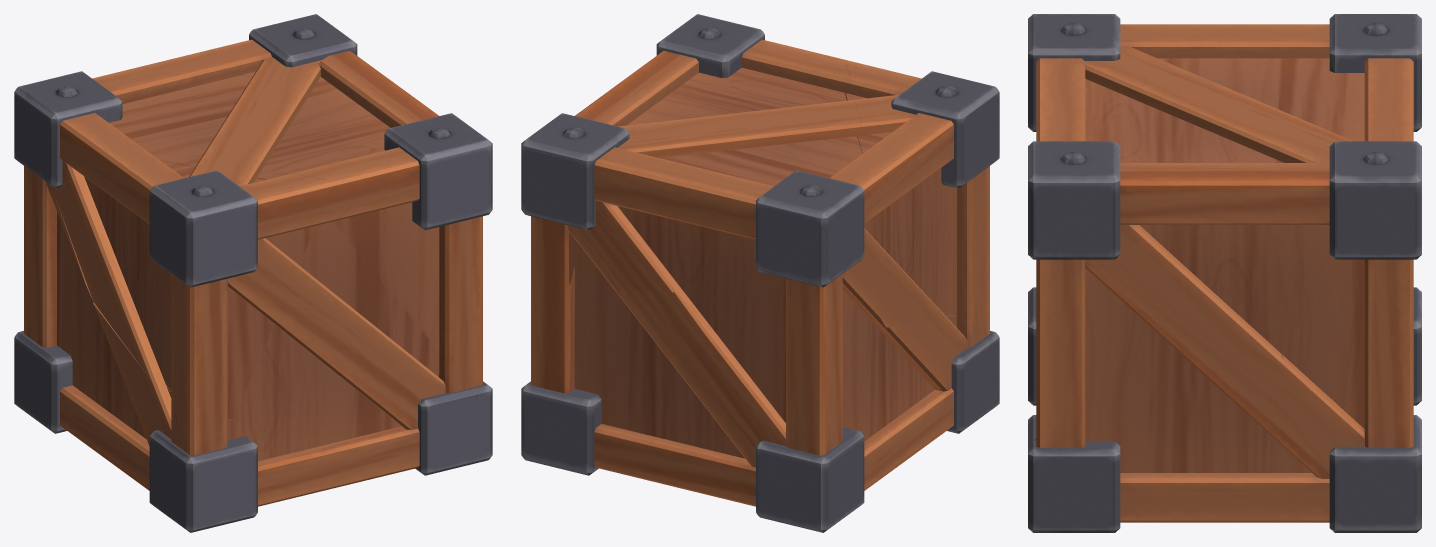
Rendered from wooden_crate_pieces.fbx.
The picture shows the model from 3 angles, left to right: view 1: azimuth 30°, elevation 25°; view 2: azimuth 150°, elevation 25°; view 3: azimuth 270°, elevation 25°; orthographic projection. The views are drawn at different scales.
Visible parts, largest first — view 1: wooden_crate.011, wooden_crate.010, wooden_crate.003, wooden_crate.002, wooden_crate.005, wooden_crate.007, wooden_crate.001, wooden_crate.004, wooden_crate.006, wooden_crate.008; view 2: wooden_crate.007, wooden_crate.011, wooden_crate.006, wooden_crate.001, wooden_crate.004, wooden_crate.002, wooden_crate.005, wooden_crate.009, wooden_crate.003; view 3: wooden_crate.006, wooden_crate.008, wooden_crate.003, wooden_crate.002, wooden_crate.011, wooden_crate.004, wooden_crate.001, wooden_crate.005, wooden_crate.007.
Boxes of the visible parts, box(x1,y1,x2,y2) form: wooden_crate.011: box(54, 136, 328, 436); wooden_crate.010: box(234, 221, 478, 502); wooden_crate.003: box(292, 103, 492, 386); wooden_crate.002: box(109, 66, 390, 179); wooden_crate.005: box(78, 302, 275, 532); wooden_crate.007: box(14, 166, 100, 438); wooden_crate.001: box(14, 55, 242, 192); wooden_crate.004: box(189, 14, 348, 76); wooden_crate.006: box(306, 37, 421, 127); wooden_crate.008: box(462, 376, 492, 466); wooden_crate.007: box(704, 274, 885, 532); wooden_crate.011: box(845, 61, 999, 326); wooden_crate.006: box(521, 66, 712, 473); wooden_crate.001: box(647, 148, 878, 317); wooden_crate.004: box(521, 116, 673, 292); wooden_crate.002: box(631, 80, 862, 186); wooden_crate.005: box(869, 314, 999, 481); wooden_crate.009: box(580, 339, 739, 502); wooden_crate.003: box(642, 14, 850, 92); wooden_crate.006: box(1143, 155, 1421, 532); wooden_crate.008: box(1028, 245, 1283, 532); wooden_crate.003: box(1028, 88, 1185, 441); wooden_crate.002: box(1085, 58, 1364, 162); wooden_crate.011: box(1028, 14, 1282, 131); wooden_crate.004: box(1311, 112, 1421, 349); wooden_crate.001: box(1225, 14, 1421, 133); wooden_crate.005: box(1028, 287, 1036, 405); wooden_crate.007: box(1413, 287, 1421, 405).
Bounding box in the file's own units: 209 × 216 × 209.
